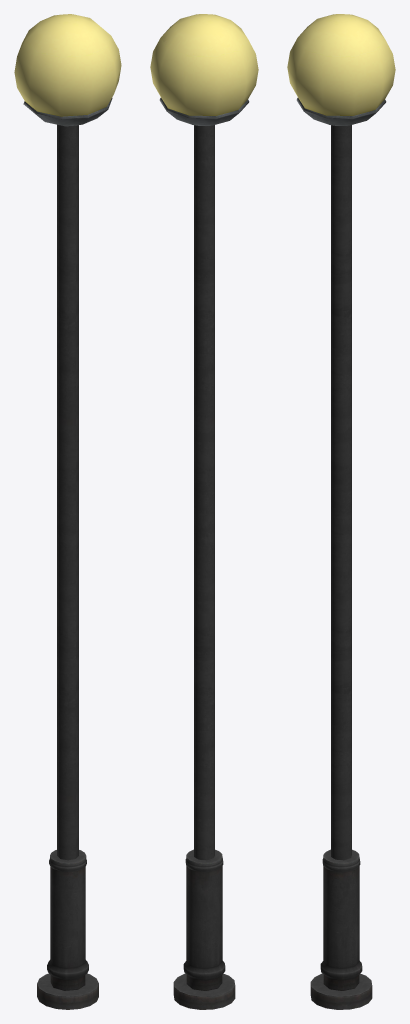
Rendered from Light_On_Post_-_Light_on.glb.
The picture shows the model from 3 angles, left to right: view 1: azimuth 90°, elevation 25°; view 2: azimuth 150°, elevation 25°; view 3: azimuth 330°, elevation 25°; orthographic projection.
Parts seen in each view (by area): view 1: Street_Light_On__LOD3; view 2: Street_Light_On__LOD3; view 3: Street_Light_On__LOD3.
Part boxes in pixels (box(x1,y1,x2,y2)): Street_Light_On__LOD3: box(14, 14, 121, 1009); Street_Light_On__LOD3: box(150, 14, 258, 1009); Street_Light_On__LOD3: box(287, 14, 395, 1009).
Size of the model in its own units: 0.391 by 3.94 by 0.391.
Materials: 1 (1 with a texture image).
